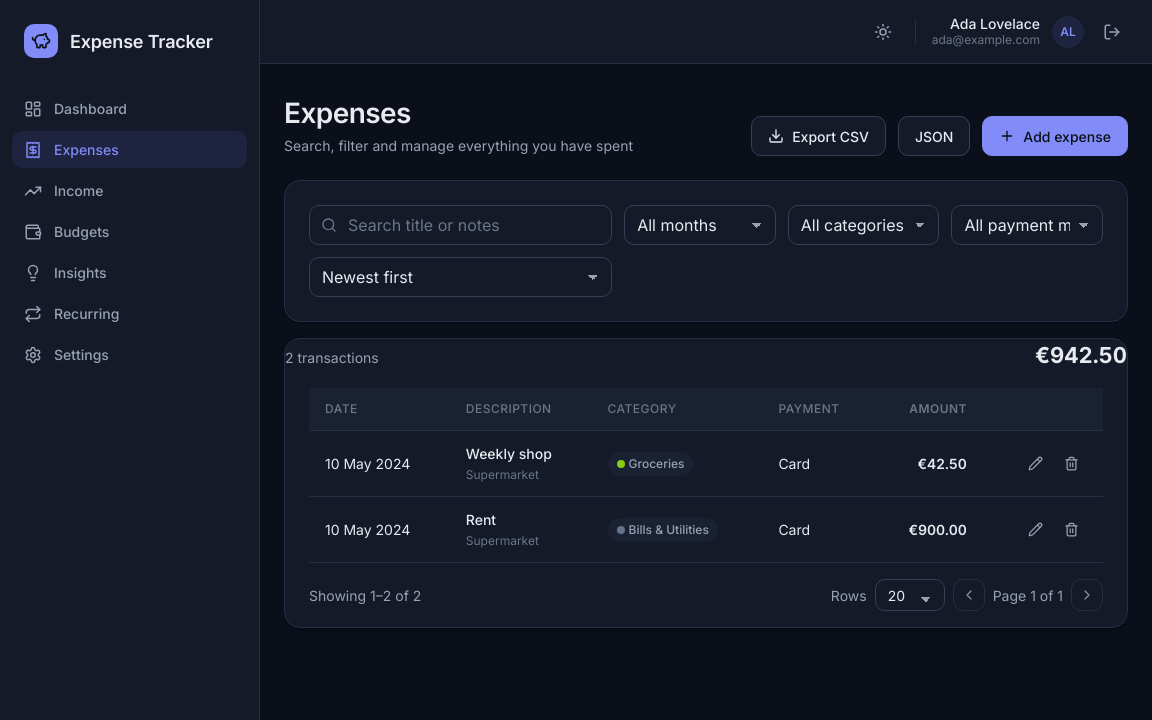
Test case: expenses page › asks for confirmation before deleting
Click the button named "Delete Weekly shop" at (1071, 464), box [1055,448,1087,480]
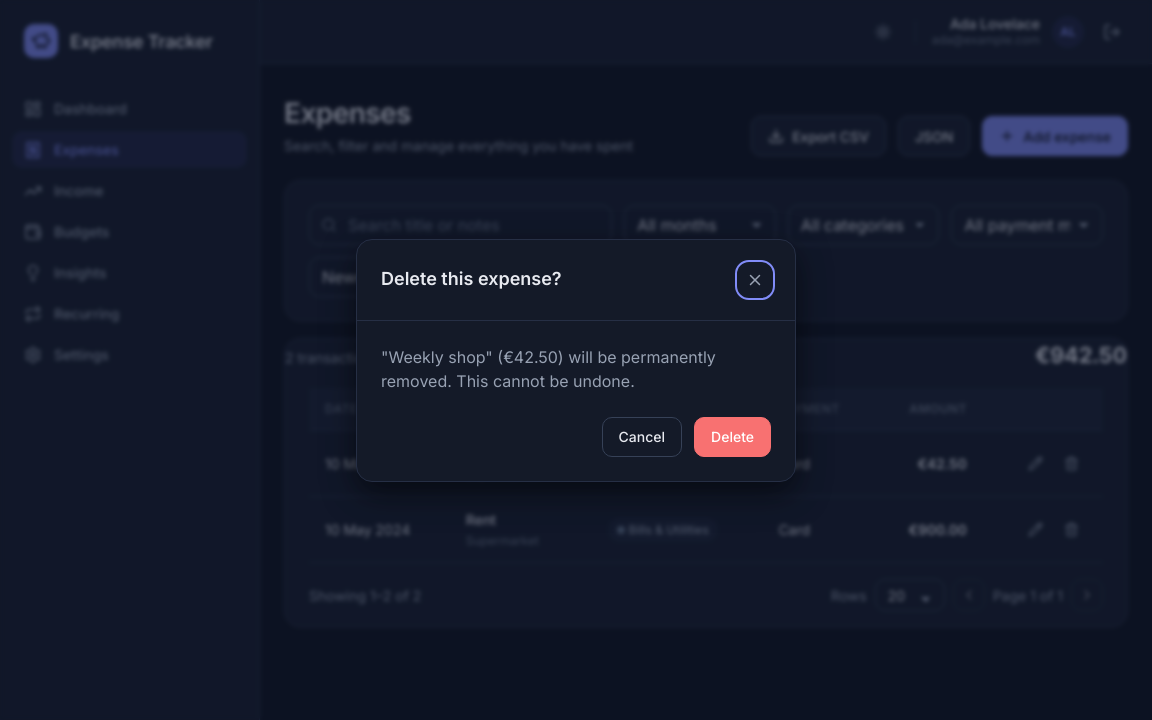
Check: the text "permanently removed" is shown, box [381,346,716,390]
